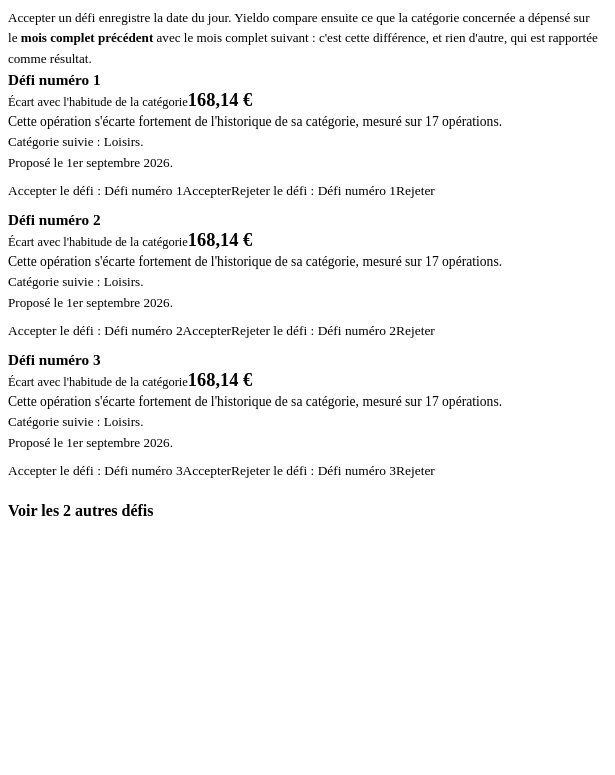
Test: ChallengeList on a phone › shows three challenges, then a way to the others
Expected: the heading "Défi numéro 3" is shown, x1=8 y1=351 x2=100 y2=368
Expected: the text "Défi numéro 4" is not shown
Click the button "Voir les 2 autres défis": (81, 511) x1=8 y1=489 x2=154 y2=533
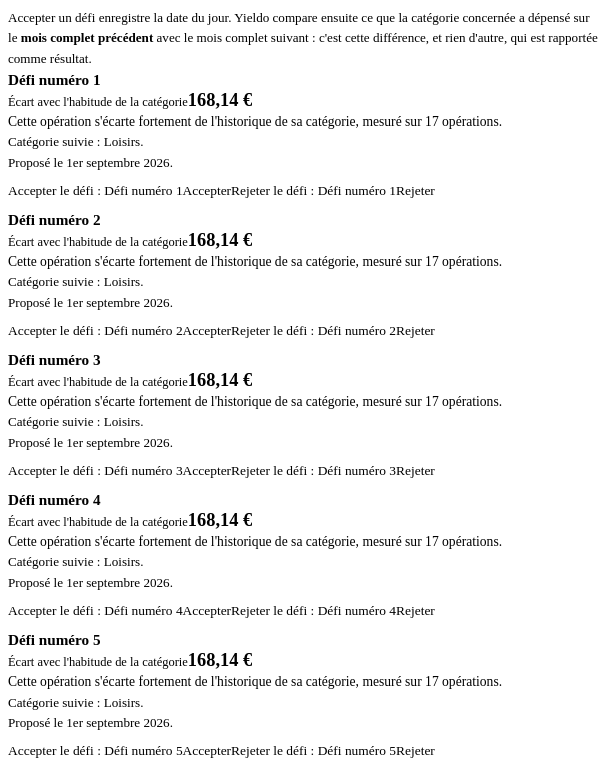
Result: the heading "Défi numéro 5" is shown at x1=8 y1=631 x2=100 y2=648
